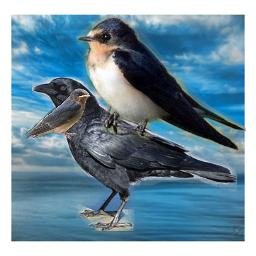Crow: (32, 77, 237, 231)
Swallow: (76, 14, 246, 156), (25, 88, 91, 141)
